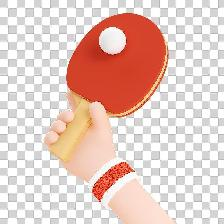WhiteBall: (98, 26, 126, 55)
